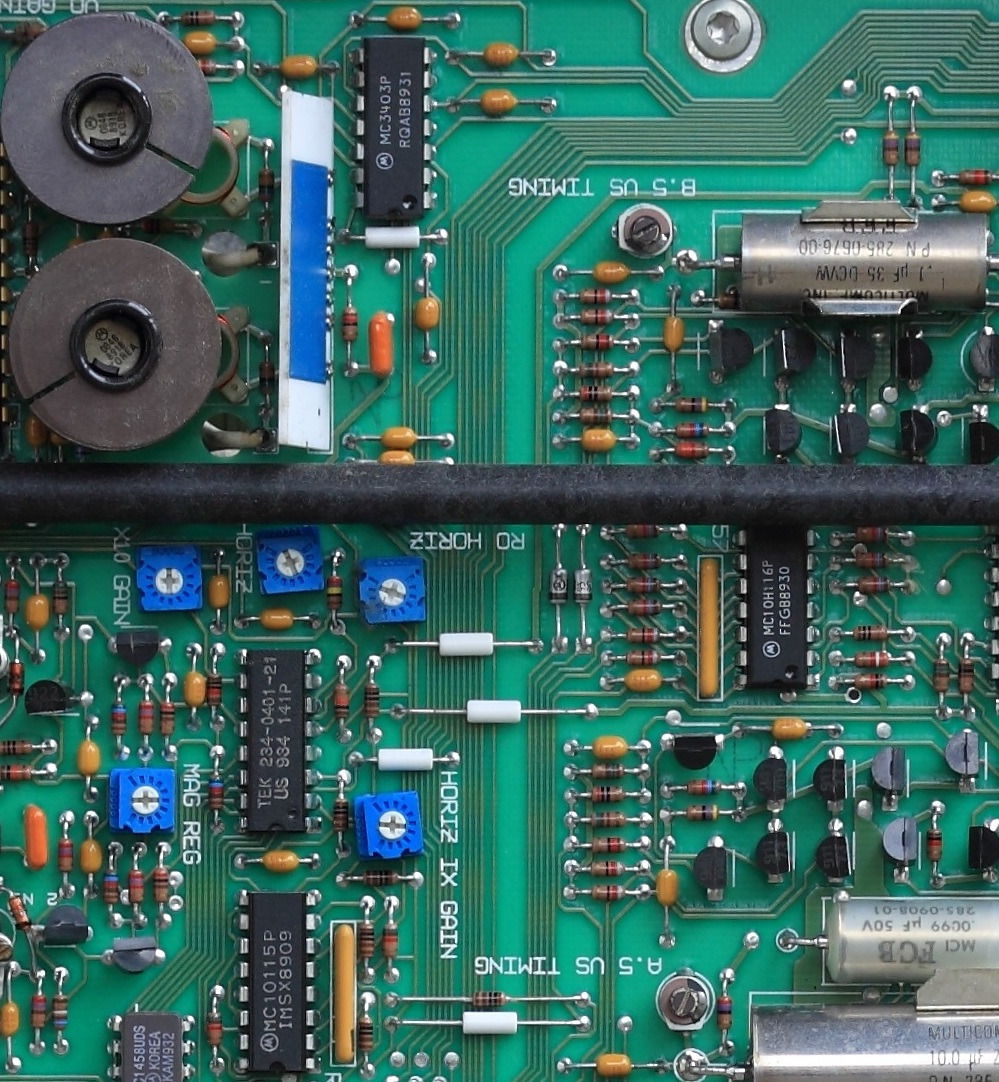Diode: (4, 888, 38, 938), (4, 652, 30, 705), (571, 557, 595, 614), (545, 557, 569, 612)
Resistor: (105, 695, 132, 745), (582, 857, 634, 882), (149, 859, 173, 911), (322, 569, 347, 618), (329, 677, 353, 728), (205, 769, 228, 822), (353, 1011, 378, 1059), (156, 693, 179, 745), (202, 667, 226, 716), (338, 299, 362, 347), (19, 214, 42, 264), (47, 575, 72, 621), (201, 1006, 226, 1052), (355, 917, 379, 964), (955, 652, 977, 703), (1, 760, 44, 786), (329, 792, 352, 840), (357, 866, 405, 889), (378, 918, 402, 964), (572, 383, 620, 406), (582, 882, 634, 903), (360, 677, 383, 724), (924, 823, 947, 870), (125, 863, 147, 912), (678, 801, 727, 823), (619, 625, 668, 647), (173, 8, 224, 29), (254, 164, 277, 210), (584, 834, 632, 856), (571, 360, 619, 382), (678, 777, 728, 798), (573, 406, 623, 427), (29, 989, 51, 1036), (49, 988, 70, 1037), (669, 440, 718, 461), (623, 549, 667, 572), (902, 127, 924, 173), (2, 573, 23, 621), (584, 810, 632, 831), (851, 575, 899, 596), (847, 550, 897, 570), (847, 525, 897, 545), (668, 420, 718, 440), (712, 991, 735, 1034), (620, 575, 667, 596), (849, 649, 895, 670), (619, 597, 669, 616), (949, 167, 999, 186), (931, 656, 953, 699), (671, 394, 714, 416), (100, 865, 121, 910), (586, 761, 631, 782), (576, 332, 621, 353), (136, 695, 156, 742), (572, 308, 621, 327), (1, 737, 41, 760), (847, 623, 893, 643), (573, 286, 621, 305), (621, 647, 664, 668), (134, 217, 186, 234), (255, 356, 277, 396), (56, 835, 76, 878), (621, 521, 664, 541), (586, 784, 631, 803), (468, 988, 510, 1008), (881, 127, 901, 169), (189, 56, 229, 76), (849, 673, 894, 690)
